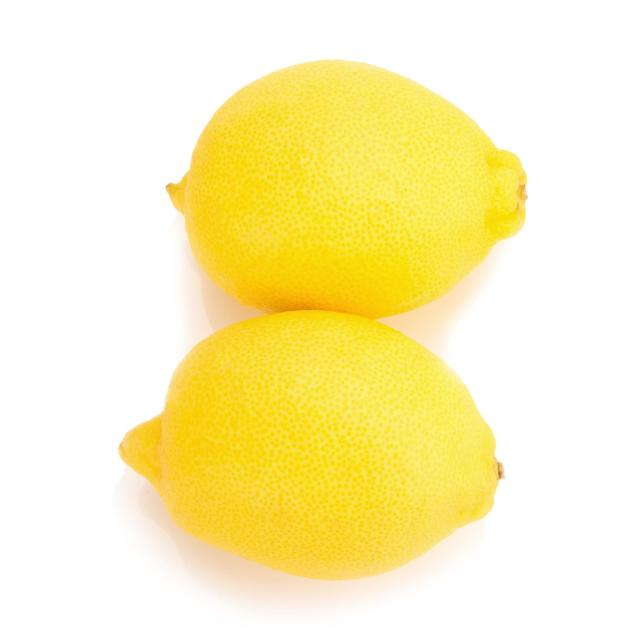lemon: (112, 51, 530, 586)
